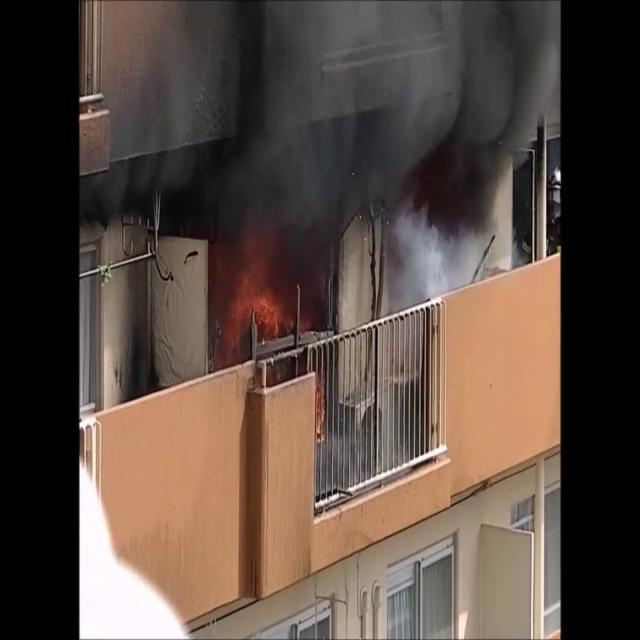Fire: (212, 252, 280, 358)
Smoke: (92, 1, 558, 281)
